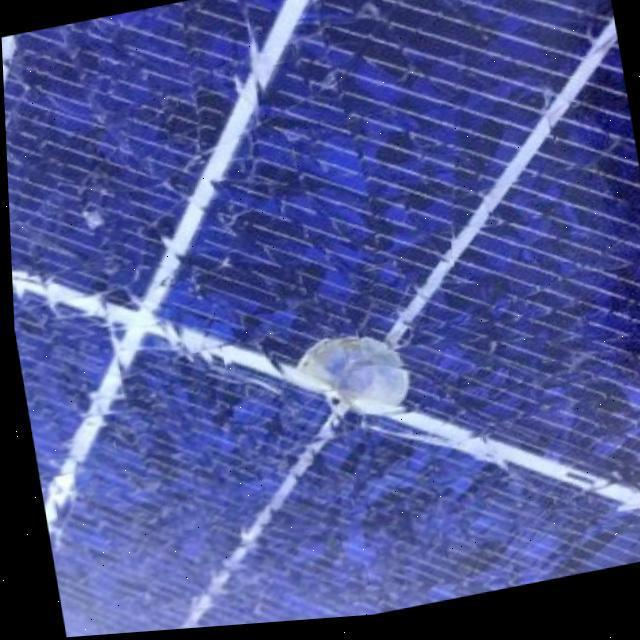Anomaly Solar Panel: (1, 0, 640, 638)
Structural Damage: (268, 302, 435, 454)
